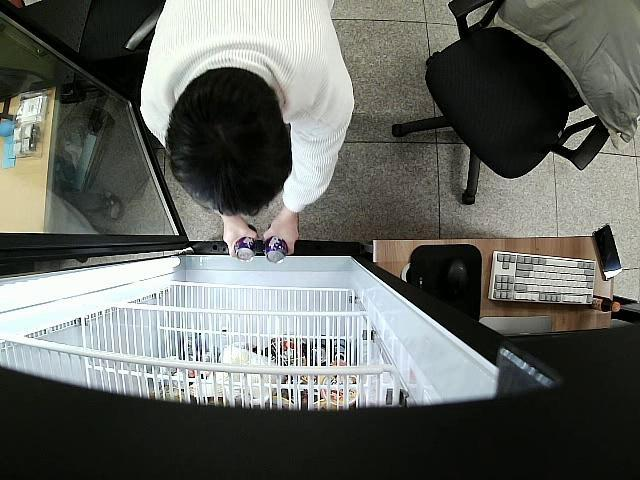14_welchsGrape: (264, 222, 288, 264), (234, 223, 258, 262)
